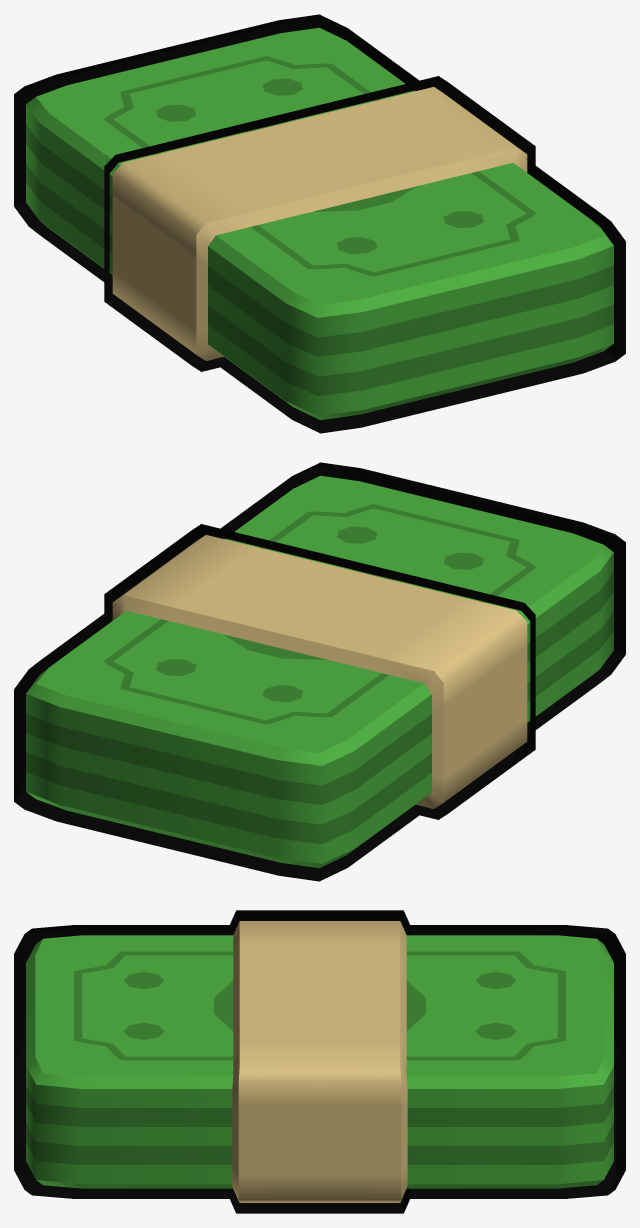
The model's file is collectable_bucks_vertPaint.fbx.
3 renders of one model, top to bottom at view 1: azimuth 30°, elevation 25°; view 2: azimuth 150°, elevation 25°; view 3: azimuth 270°, elevation 25°, orthographic. The views are drawn at different scales.
Parts seen in each view (by area): view 1: collectable_bucks_vertPaint; view 2: collectable_bucks_vertPaint; view 3: collectable_bucks_vertPaint.
Part boxes in pixels (x1,y1,x2,y2): collectable_bucks_vertPaint: (14, 14, 625, 433); collectable_bucks_vertPaint: (14, 462, 625, 881); collectable_bucks_vertPaint: (14, 910, 625, 1213).
Bounding box in the file's own units: 0.4604 × 0.1969 × 0.7286.
